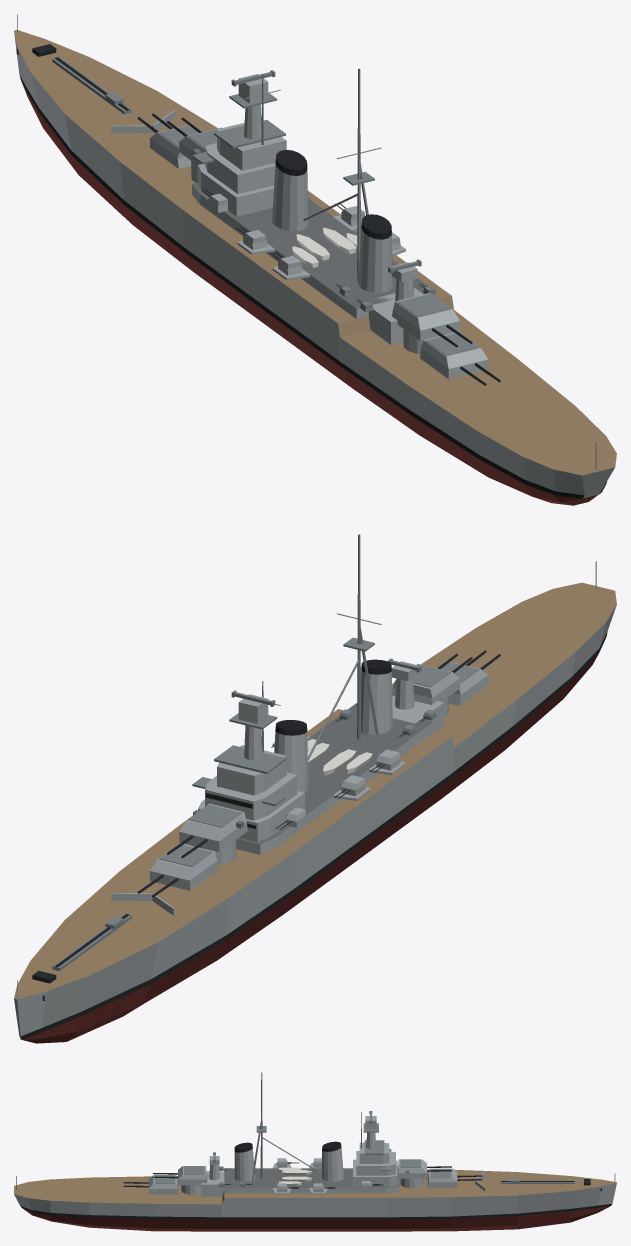
The model's file is zara.glb.
3 views of the same model, one above another, from view 1: azimuth 30°, elevation 25°; view 2: azimuth 150°, elevation 25°; view 3: azimuth 270°, elevation 25° (orthographic). The views are drawn at different scales.
Parts seen in each view (by area): view 1: Hull, Deckhouse, Fore funnel, Aft funnel, Bridge 2, Bridge 1, 203 X house, 203 Y house, Bridge 3, Aft deckhouse, Bridge top, 203 A house (+2 smaller); view 2: Hull, Deckhouse, Bridge 2, Aft funnel, Bridge 3, 203 B house, 203 A house, Fore funnel, Bridge 1, Bridge top, 203 X house, Aft deckhouse (+3 smaller); view 3: Hull, Deckhouse, Fore funnel, Aft funnel, Bridge 2, Bridge 1, Aft deckhouse, Bridge 3, 203 A house, 203 Y house, 203 X house, 203 B house (+1 smaller).
Part boxes in pixels (left/top/right/bottom): Hull: left=14, top=30, right=616, bottom=505; Deckhouse: left=192, top=182, right=428, bottom=319; Fore funnel: left=272, top=164, right=308, bottom=230; Aft funnel: left=358, top=229, right=392, bottom=292; Bridge 2: left=205, top=143, right=275, bottom=193; Bridge 1: left=198, top=164, right=274, bottom=216; 203 X house: left=392, top=293, right=459, bottom=340; 203 Y house: left=420, top=331, right=488, bottom=379; Bridge 3: left=217, top=122, right=286, bottom=170; Aft deckhouse: left=368, top=288, right=423, bottom=344; Bridge top: left=214, top=120, right=285, bottom=148; 203 A house: left=150, top=124, right=202, bottom=168; Hull: left=14, top=582, right=616, bottom=1043; Deckhouse: left=236, top=703, right=433, bottom=854; Bridge 2: left=205, top=772, right=297, bottom=820; Aft funnel: left=361, top=670, right=392, bottom=734; Bridge 3: left=217, top=745, right=286, bottom=795; 203 B house: left=179, top=803, right=247, bottom=851; 203 A house: left=150, top=843, right=218, bottom=890; Fore funnel: left=274, top=730, right=308, bottom=792; Bridge 1: left=198, top=791, right=304, bottom=842; Bridge top: left=214, top=745, right=285, bottom=773; 203 X house: left=392, top=664, right=459, bottom=704; Aft deckhouse: left=392, top=690, right=443, bottom=732; Hull: left=14, top=1169, right=616, bottom=1231; Deckhouse: left=224, top=1168, right=399, bottom=1193; Fore funnel: left=322, top=1147, right=343, bottom=1181; Aft funnel: left=234, top=1148, right=255, bottom=1181; Bridge 2: left=356, top=1151, right=395, bottom=1175; Bridge 1: left=353, top=1159, right=397, bottom=1186; Aft deckhouse: left=201, top=1171, right=224, bottom=1196; Bridge 3: left=359, top=1142, right=389, bottom=1163; 203 A house: left=427, top=1168, right=457, bottom=1187; 203 Y house: left=148, top=1175, right=178, bottom=1194; 203 X house: left=178, top=1166, right=207, bottom=1185; 203 B house: left=397, top=1159, right=426, bottom=1178.
Bounding box in the file's own units: 21.6 × 51.8 × 183.
